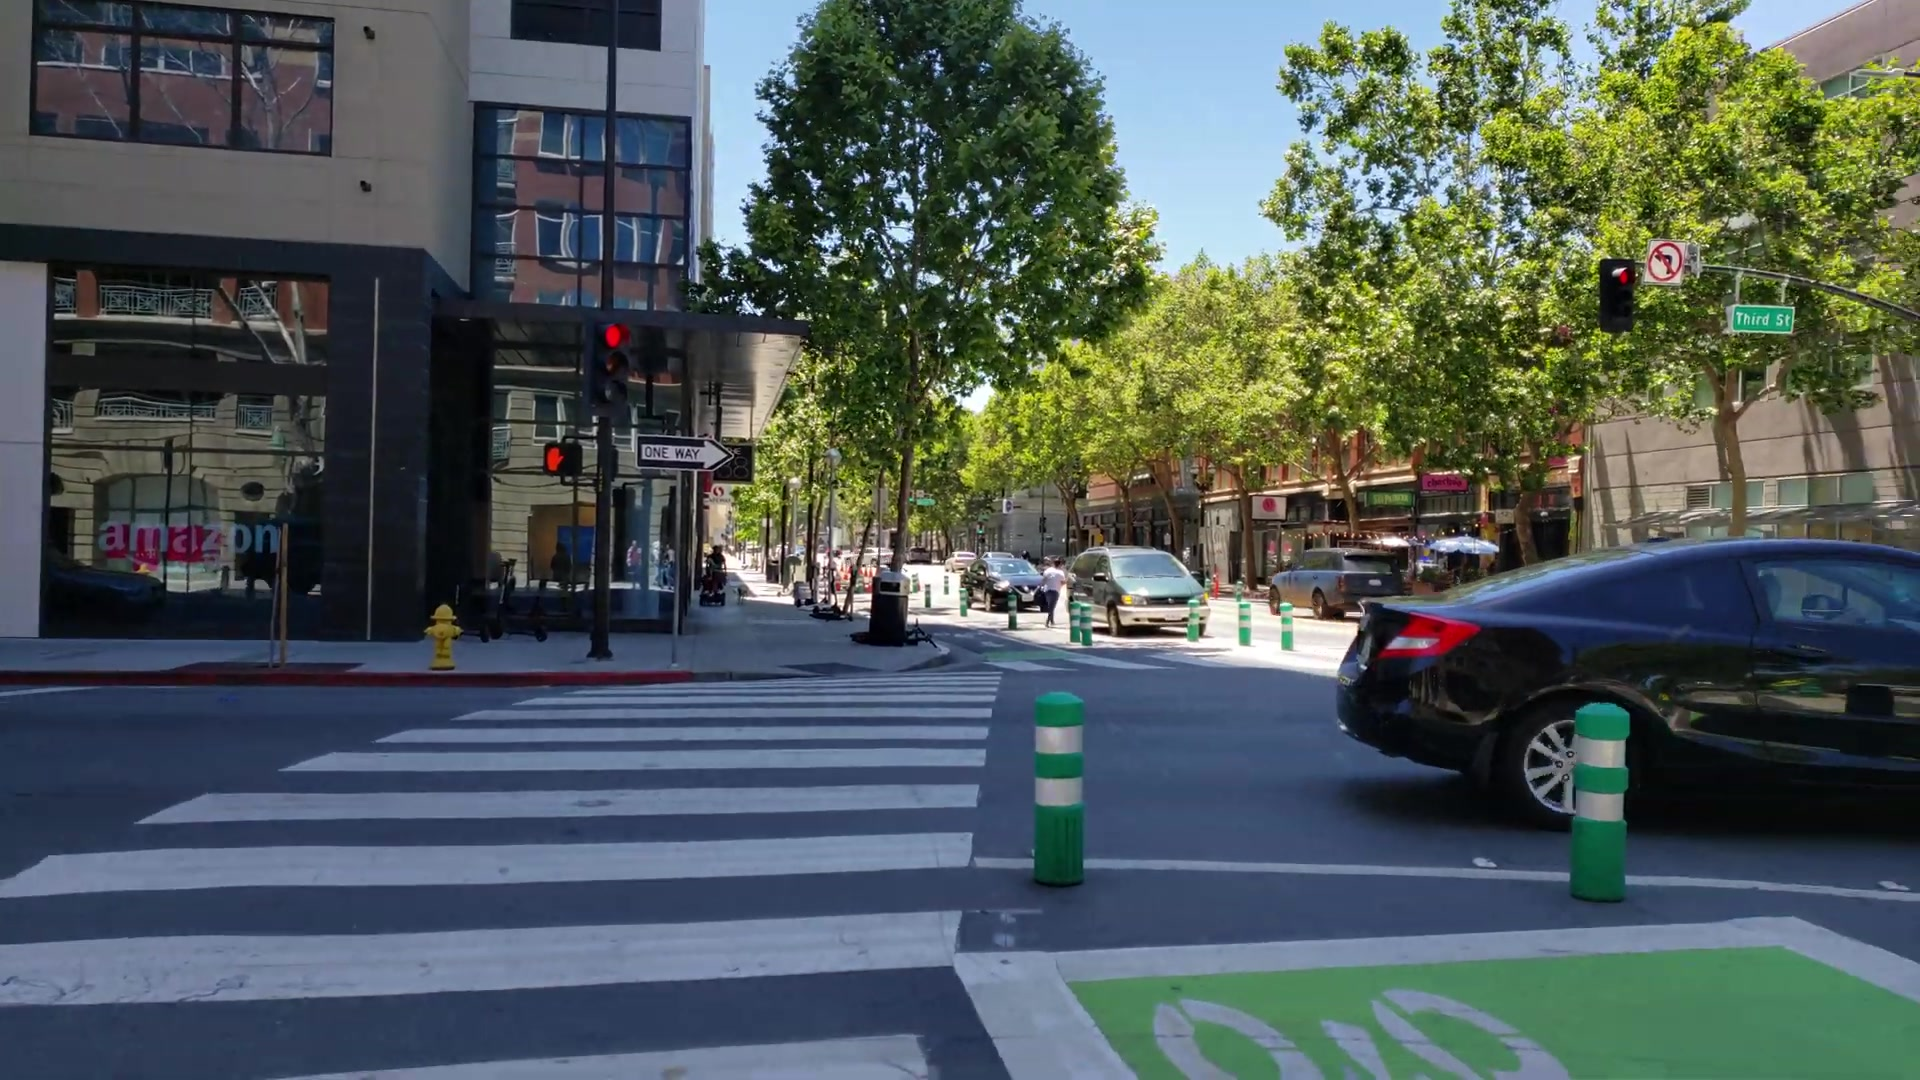vehicle: (1069, 547, 1211, 630), (1269, 546, 1404, 612), (963, 555, 1043, 613)
